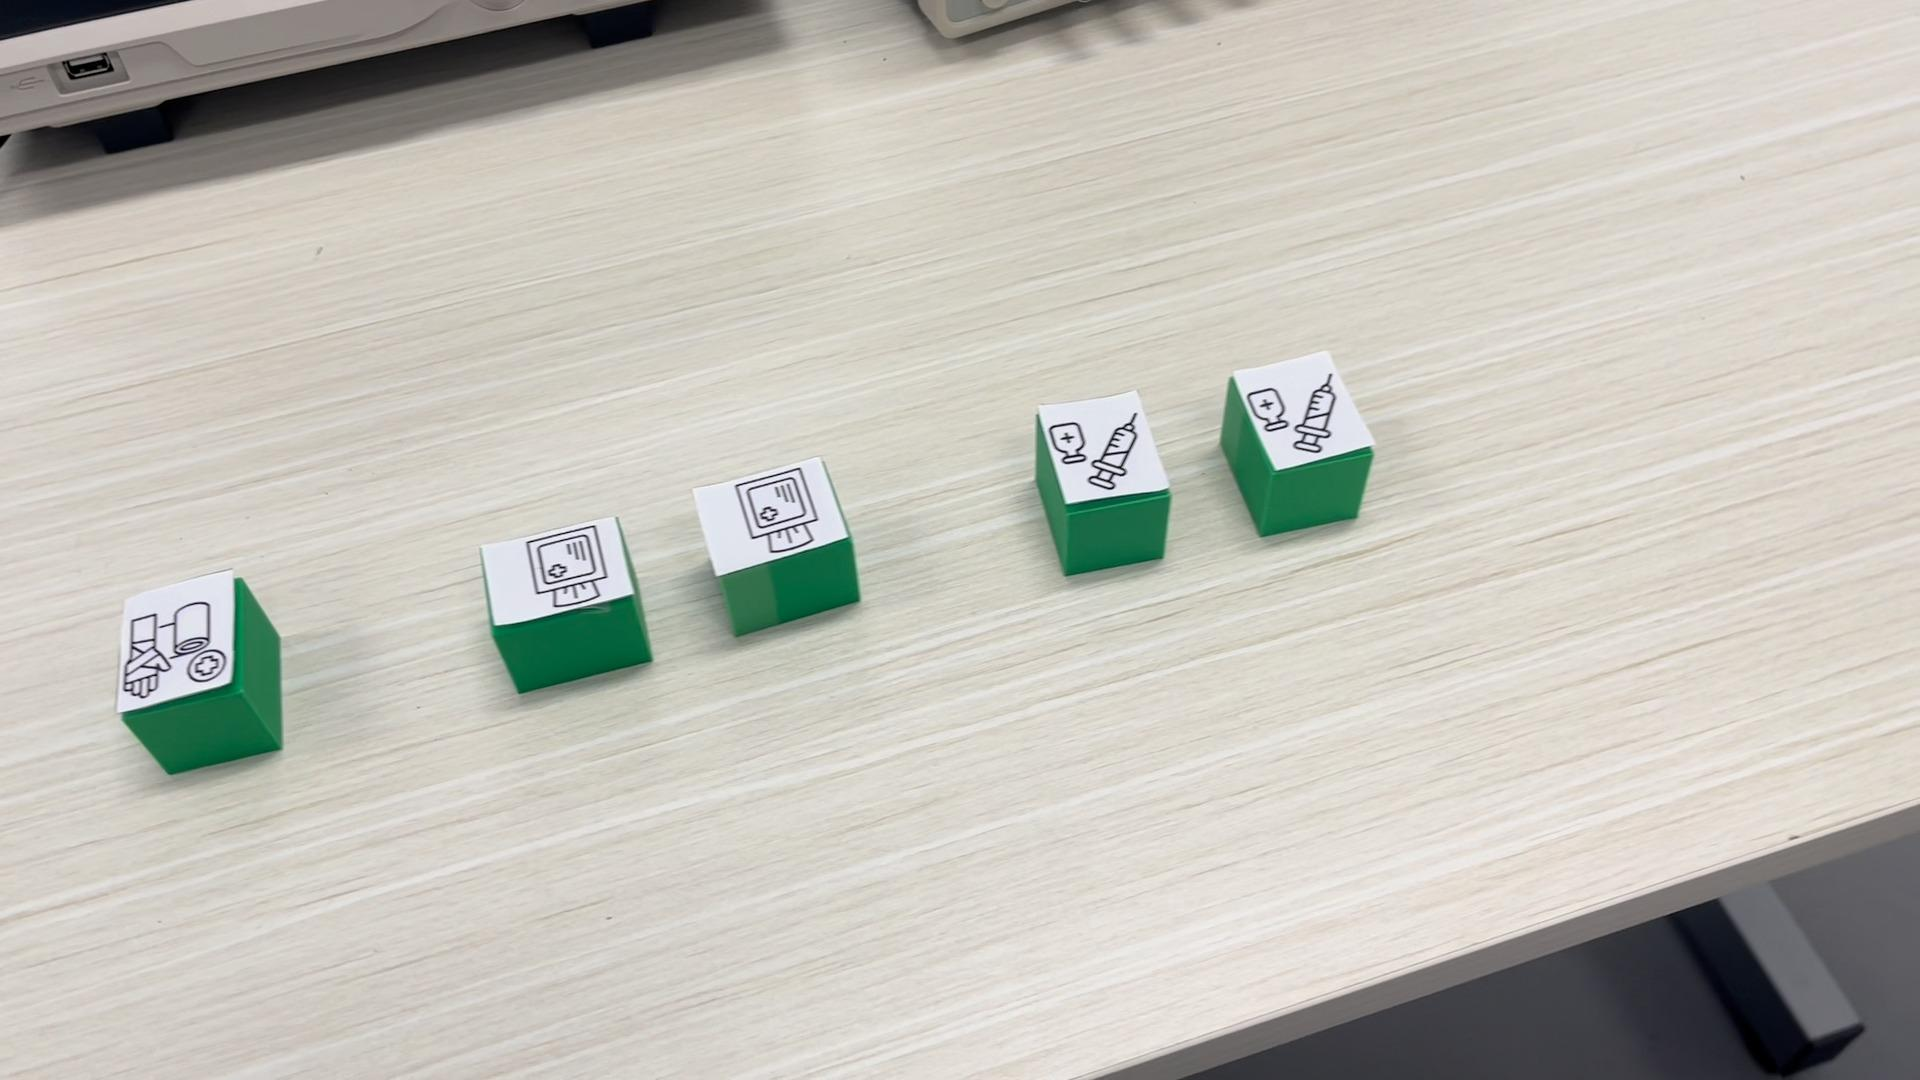Bandages: (113, 570, 284, 775)
Gauze: (477, 512, 653, 692), (692, 455, 862, 637)
antiseptic cream: (1218, 349, 1375, 537), (1033, 389, 1171, 575)
